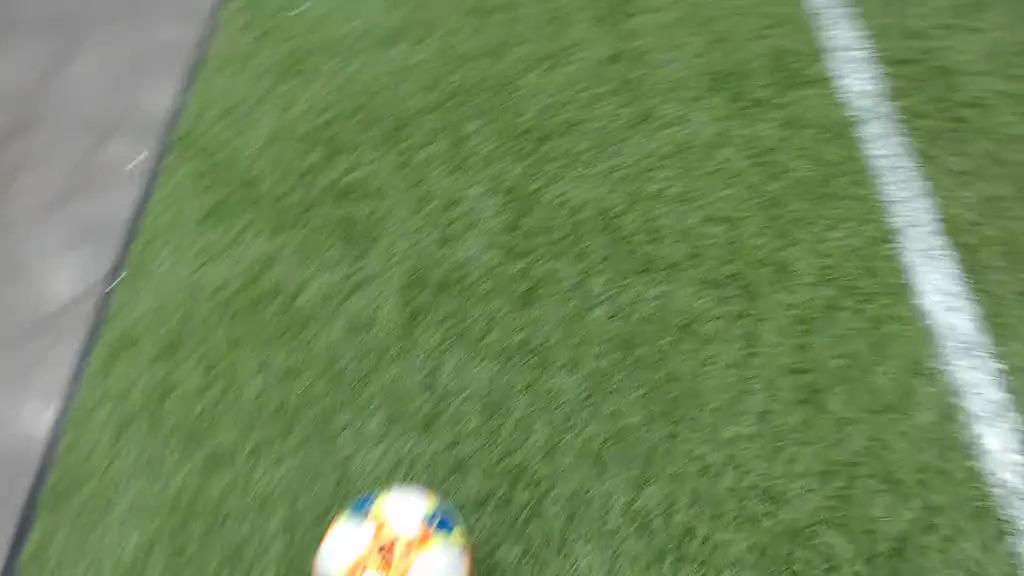ball: (314, 483, 474, 576)
